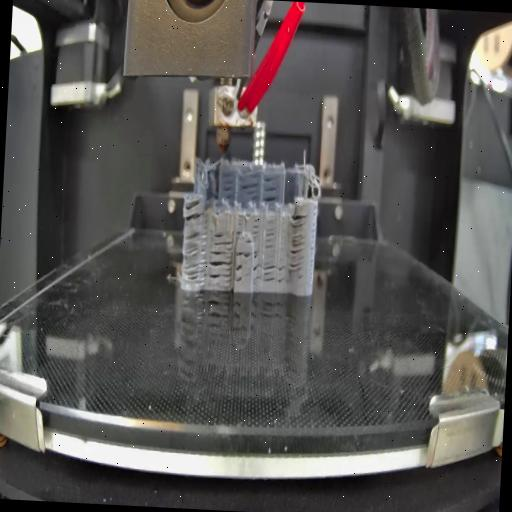cracks: (288, 211, 310, 273), (182, 234, 208, 286), (208, 250, 232, 288), (184, 196, 206, 226), (240, 175, 262, 203), (263, 262, 287, 287), (213, 230, 236, 250), (264, 220, 278, 252), (220, 171, 236, 199), (264, 174, 279, 202), (252, 248, 262, 283), (234, 210, 246, 236), (234, 263, 244, 285), (251, 217, 261, 239), (236, 251, 252, 259), (242, 237, 254, 246)
